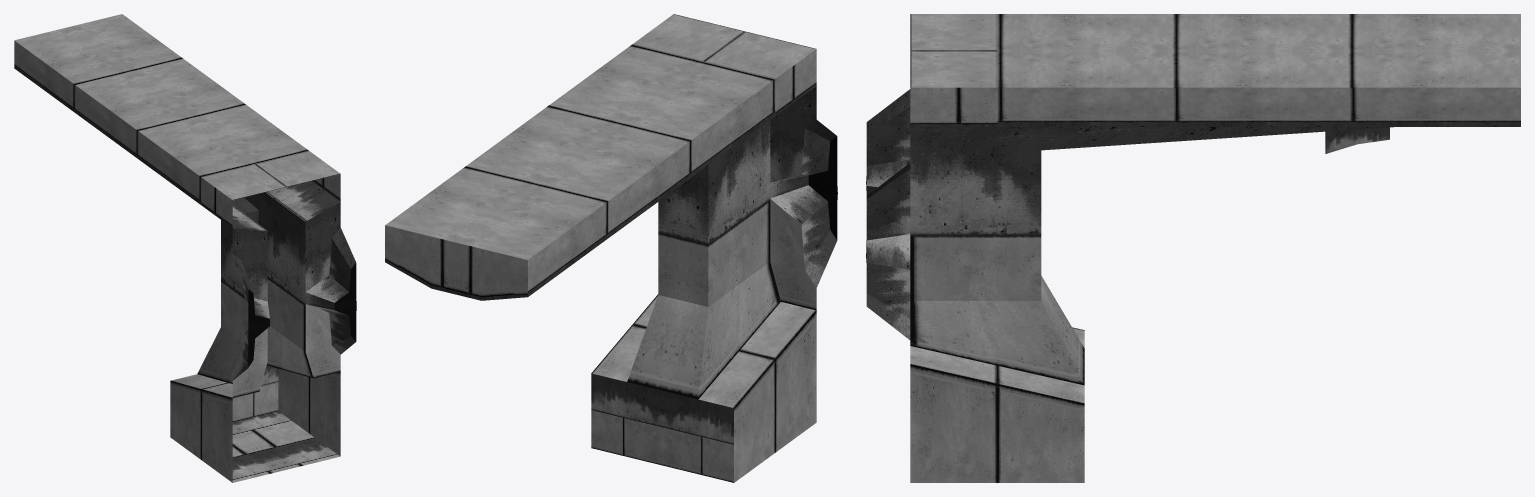
Rendered from NaveCentral_columnas.fbx.
3 views of the same model, side by side, from view 1: azimuth 30°, elevation 25°; view 2: azimuth 150°, elevation 25°; view 3: azimuth 270°, elevation 25° (orthographic). The views are drawn at different scales.
Parts seen in each view (by area): view 1: NC_columna_central, NC_columna_l, NC_columna_r; view 2: NC_columna_central, NC_columna_l; view 3: NC_columna_central, NC_columna_r.
Boxes of the visible parts, x1=… form: NC_columna_central: x1=14, y1=14, x2=356, y2=482; NC_columna_l: x1=14, y1=40, x2=356, y2=482; NC_columna_r: x1=248, y1=174, x2=340, y2=456; NC_columna_central: x1=385, y1=14, x2=837, y2=482; NC_columna_l: x1=528, y1=49, x2=816, y2=482; NC_columna_central: x1=866, y1=14, x2=1520, y2=403; NC_columna_r: x1=866, y1=87, x2=1520, y2=482.
Bounding box in the file's own units: 402 × 1000 × 1502.
